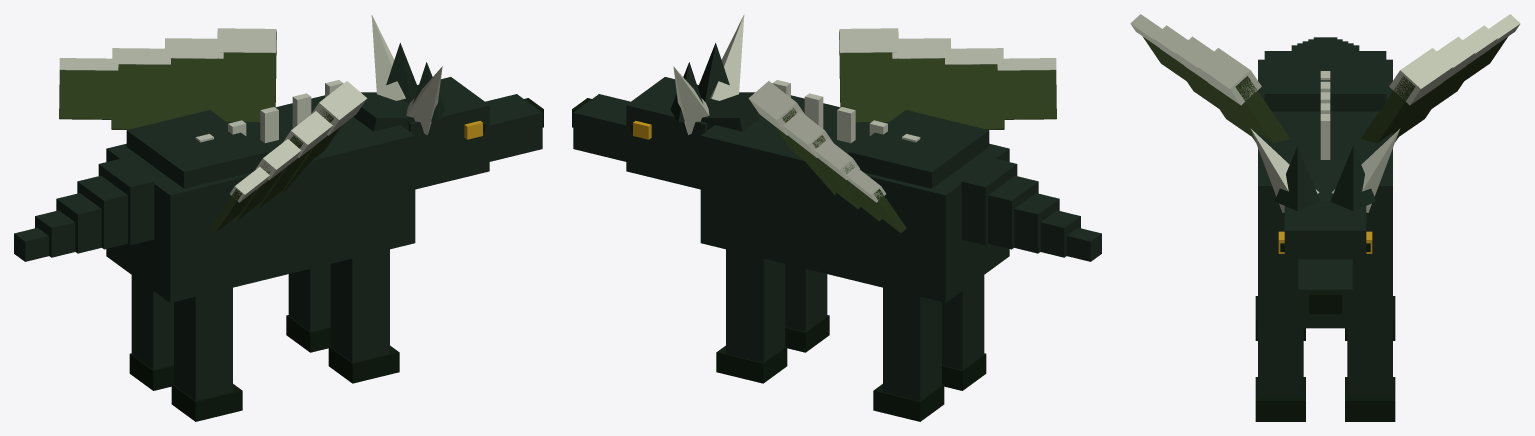
The model's file is green_dragon.glb.
The picture shows the model from 3 angles, left to right: view 1: azimuth 30°, elevation 25°; view 2: azimuth 150°, elevation 25°; view 3: azimuth 270°, elevation 25°; orthographic projection. The views are drawn at different scales.
Visible parts, largest first — view 1: geometry_0; view 2: geometry_0; view 3: geometry_0.
Part boxes in pixels (x1,y1,x2,y2): geometry_0: [14, 14, 543, 421]; geometry_0: [572, 14, 1101, 421]; geometry_0: [1130, 14, 1520, 421].
Bounding box in the file's own units: 1.31 × 0.7408 × 0.81.
